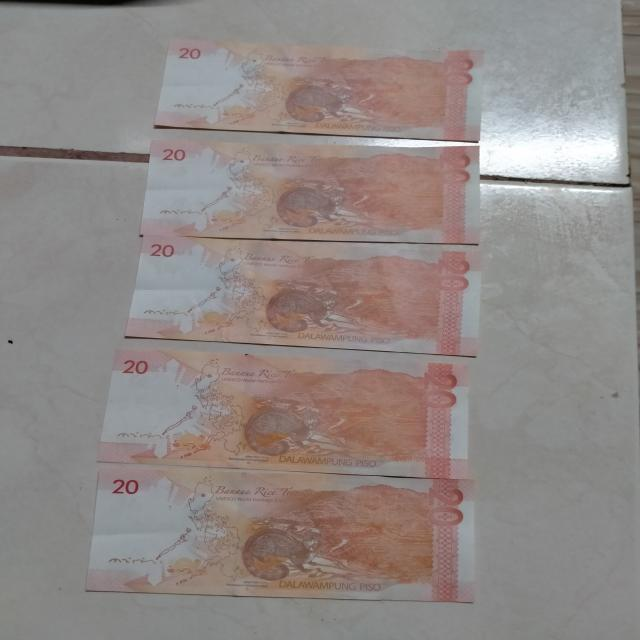20_civet: (233, 519, 329, 587), (256, 286, 342, 338)
20_civet_watermark: (168, 422, 215, 456)
